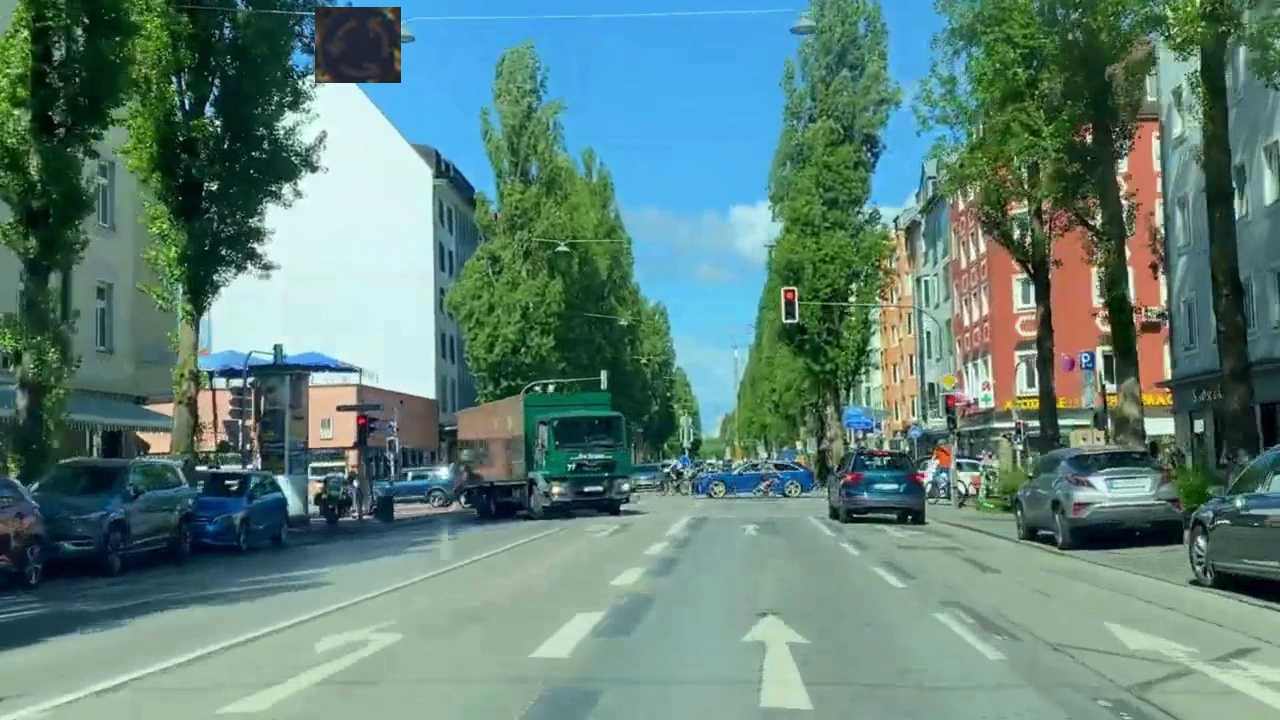Roundabout: (315, 7, 401, 83)
